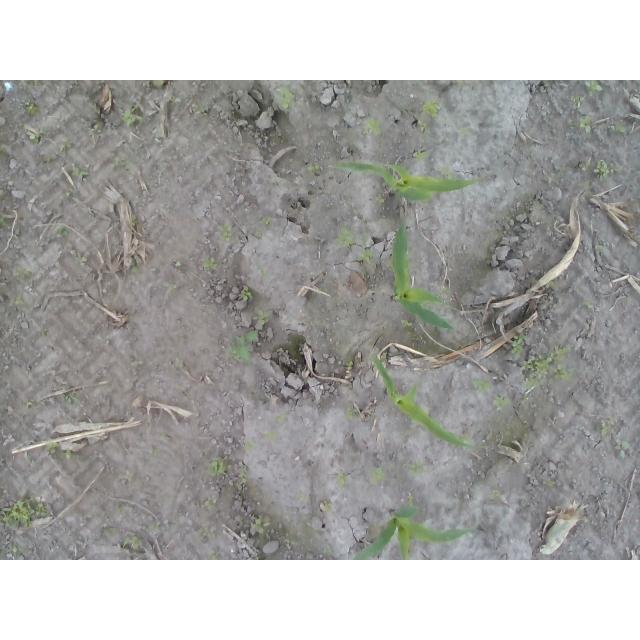Maize: (369, 351, 479, 450), (390, 223, 456, 332), (351, 505, 477, 560), (330, 159, 483, 202)
Weeds: (511, 333, 578, 388), (0, 494, 48, 530), (223, 331, 258, 368), (274, 85, 297, 109), (419, 99, 441, 119), (335, 224, 353, 248), (252, 307, 273, 326), (206, 457, 226, 476), (120, 109, 140, 128), (576, 113, 593, 135), (250, 517, 270, 535), (615, 438, 633, 458), (216, 223, 236, 241), (469, 378, 493, 393), (353, 248, 376, 263), (594, 161, 613, 178), (29, 128, 49, 144), (495, 396, 513, 413), (366, 117, 382, 136), (14, 265, 35, 279), (585, 81, 604, 96), (408, 460, 424, 477), (238, 286, 254, 303), (368, 467, 385, 482), (198, 527, 221, 538), (412, 149, 432, 161), (128, 535, 144, 550), (203, 256, 220, 270), (335, 472, 349, 488), (600, 418, 612, 436), (48, 437, 60, 455), (25, 99, 40, 113), (239, 464, 249, 485), (56, 224, 69, 240), (569, 95, 584, 108), (72, 167, 89, 178), (89, 122, 103, 135), (577, 160, 591, 173), (343, 402, 353, 419), (64, 395, 81, 405), (59, 138, 73, 150), (399, 316, 413, 328), (146, 523, 161, 534), (102, 527, 118, 537), (129, 260, 140, 273), (439, 164, 450, 177), (307, 163, 321, 173), (418, 120, 428, 134), (543, 479, 558, 488), (63, 191, 82, 198), (376, 194, 387, 206), (6, 543, 18, 554), (274, 412, 287, 422), (207, 497, 217, 510), (64, 451, 77, 461), (321, 545, 333, 555), (323, 503, 335, 513), (76, 255, 88, 265), (615, 124, 625, 136), (457, 127, 471, 135), (596, 242, 608, 251), (244, 440, 256, 449), (263, 432, 274, 441), (584, 300, 593, 311), (261, 216, 272, 225), (15, 296, 26, 305), (548, 280, 559, 289), (346, 361, 355, 371), (23, 400, 33, 409), (192, 103, 200, 113), (39, 328, 49, 336), (491, 487, 498, 498), (160, 431, 169, 439), (176, 96, 183, 104), (259, 271, 267, 278), (407, 495, 413, 503), (522, 395, 529, 401), (31, 459, 38, 464), (442, 287, 449, 292)
